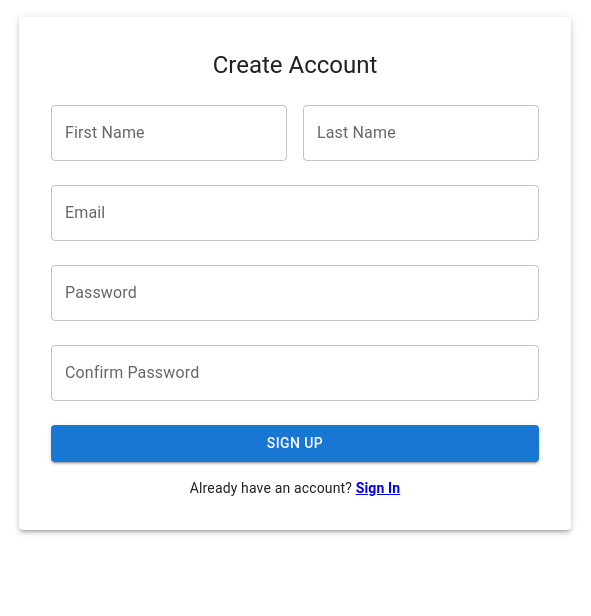
RegisterPage › shows API error message on failed registration
Type "John" into the field with test id "first-name-input" at (169, 133), box [51, 105, 287, 161]
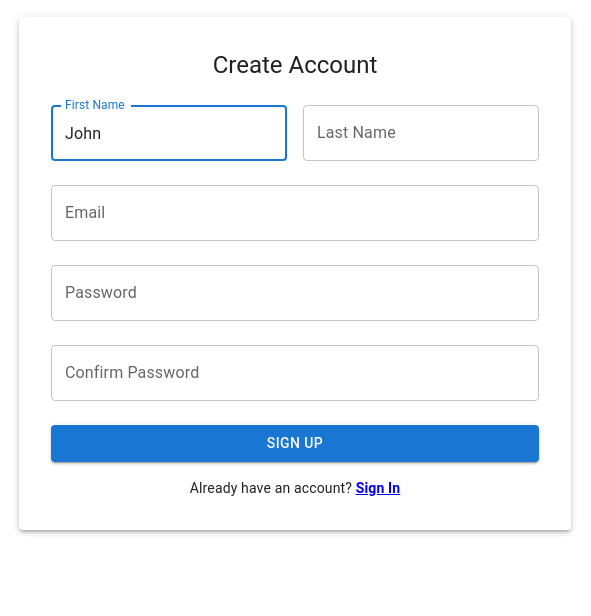
Type "Doe" into the field with test id "last-name-input" at (421, 133), box [303, 105, 539, 161]
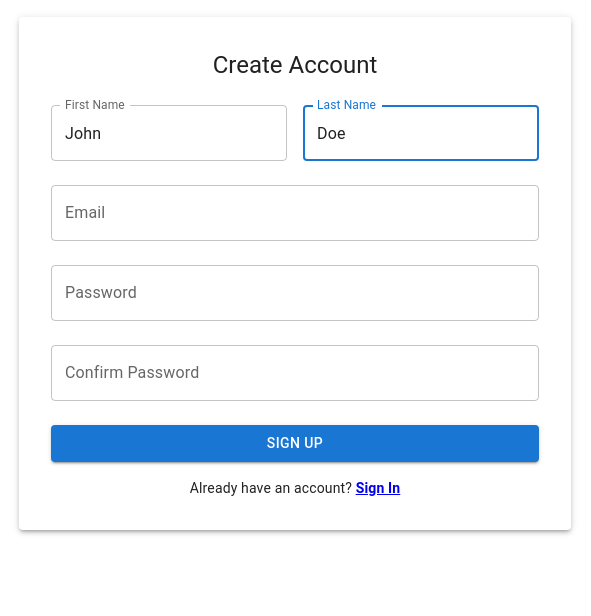
Type "taken@test.com" into the field labelled "Email" at (295, 213), box [51, 185, 539, 241]
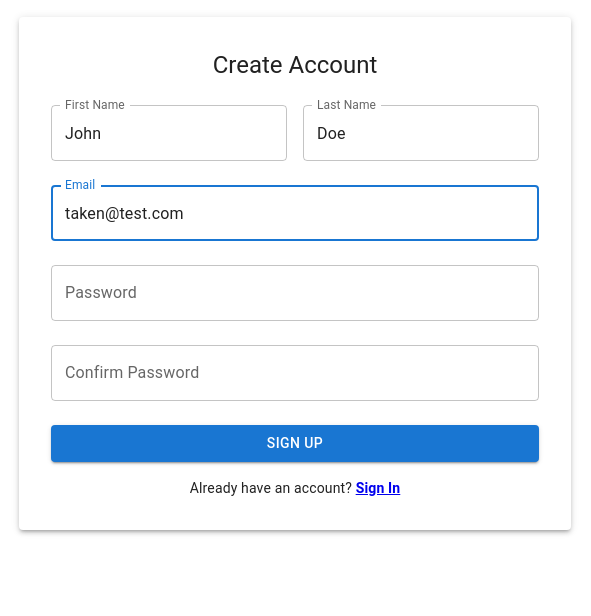
Type "Password1!" into the password field with test id "password-input" at (295, 293), box [51, 265, 539, 321]
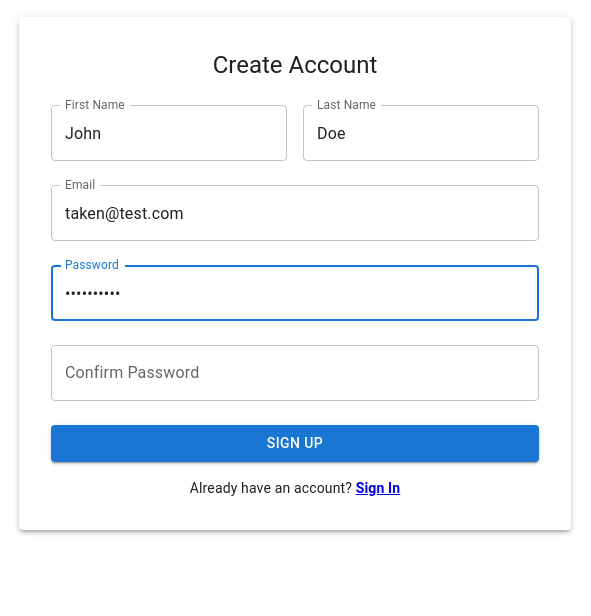
Type "Password1!" into the password field with test id "confirm-password-input" at (295, 373), box [51, 345, 539, 401]
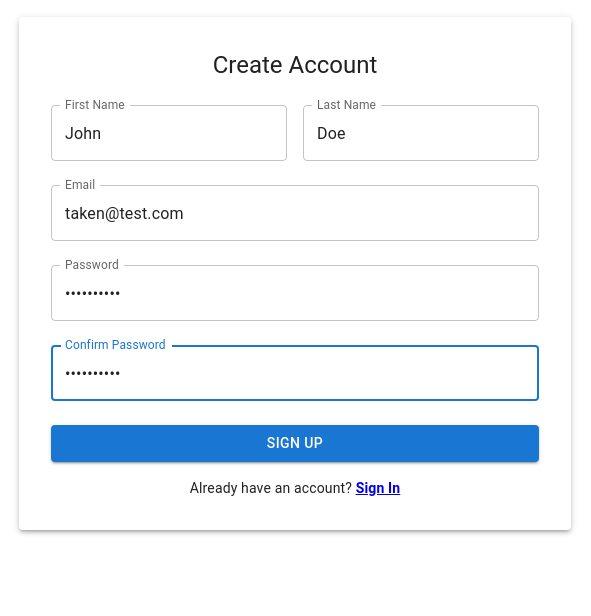
Click the button with test id "submit-button" at (295, 444), box [51, 425, 539, 462]
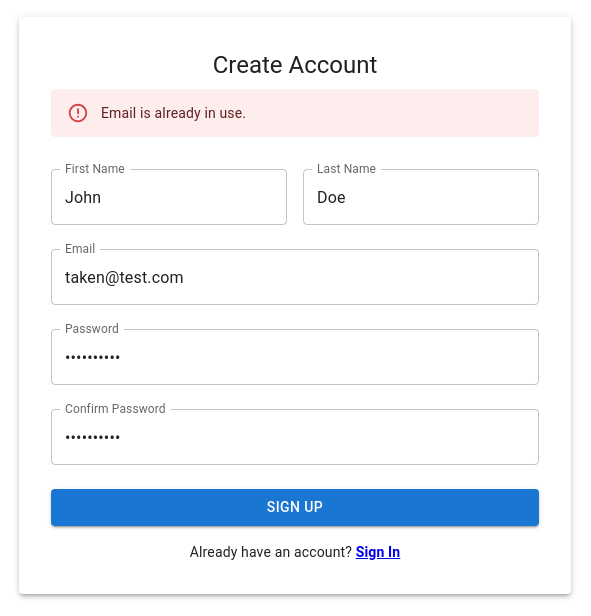
Expected: the text "Email is already in use." is shown, [101, 105, 246, 121]
